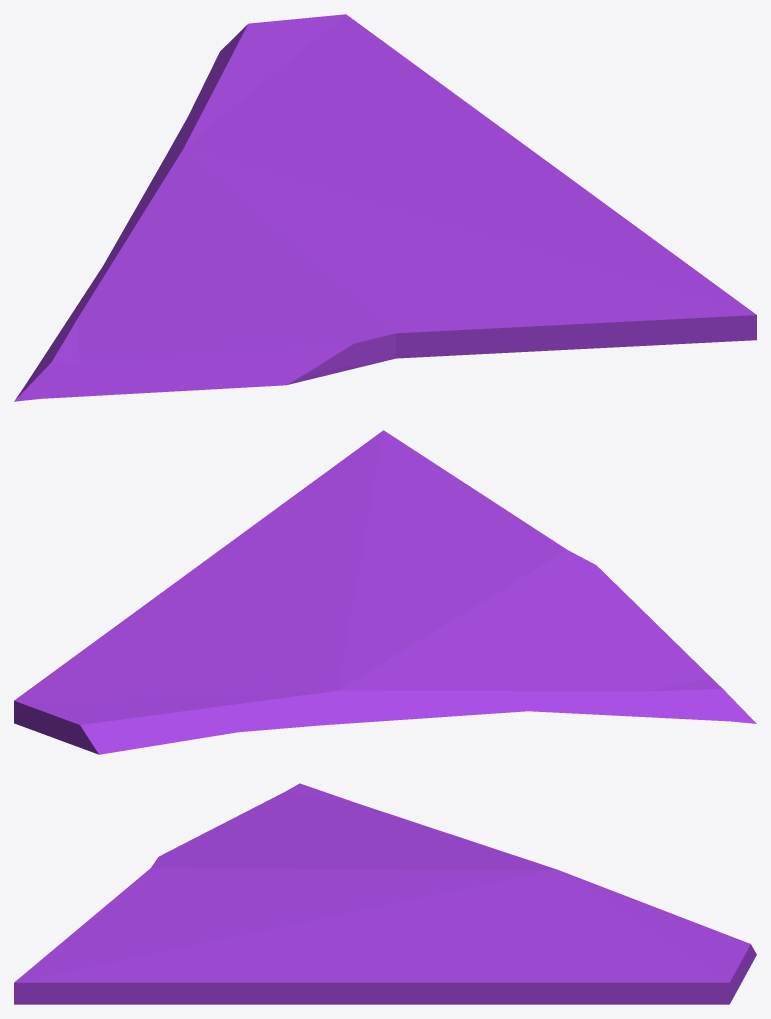
Rendered from Glass_101_2_3_chunks.fbx.
3 views of the same model, one above another, from view 1: azimuth 30°, elevation 25°; view 2: azimuth 150°, elevation 25°; view 3: azimuth 270°, elevation 25° (orthographic). The views are drawn at different scales.
Parts seen in each view (by area): view 1: Glass_101_2_3_3, Glass_101_2_3_19, Glass_101_2_3_18, Glass_101_2_3_7, Glass_101_2_3_23, Glass_101_2_3_4, Glass_101_2_3_16, Glass_101_2_3_0, Glass_101_2_3_9, Glass_101_2_3_26, Glass_101_2_3_11, Glass_101_2_3_25 (+16 smaller); view 2: Glass_101_2_3_4, Glass_101_2_3_19, Glass_101_2_3_18, Glass_101_2_3_3, Glass_101_2_3_7, Glass_101_2_3_16, Glass_101_2_3_12, Glass_101_2_3_0, Glass_101_2_3_20, Glass_101_2_3_26, Glass_101_2_3_9, Glass_101_2_3_11 (+14 smaller); view 3: Glass_101_2_3_18, Glass_101_2_3_19, Glass_101_2_3_29, Glass_101_2_3_7, Glass_101_2_3_30, Glass_101_2_3_16, Glass_101_2_3_32, Glass_101_2_3_28, Glass_101_2_3_26, Glass_101_2_3_20, Glass_101_2_3_3, Glass_101_2_3_4 (+13 smaller).
Part boxes in pixels (bbox=[...]): Glass_101_2_3_3: bbox=[14, 306, 256, 401]; Glass_101_2_3_19: bbox=[233, 99, 513, 175]; Glass_101_2_3_18: bbox=[363, 137, 608, 222]; Glass_101_2_3_7: bbox=[235, 142, 361, 261]; Glass_101_2_3_23: bbox=[406, 288, 690, 357]; Glass_101_2_3_4: bbox=[53, 171, 242, 342]; Glass_101_2_3_16: bbox=[353, 173, 481, 278]; Glass_101_2_3_0: bbox=[70, 217, 289, 324]; Glass_101_2_3_9: bbox=[226, 280, 356, 361]; Glass_101_2_3_26: bbox=[466, 249, 659, 317]; Glass_101_2_3_11: bbox=[283, 255, 502, 310]; Glass_101_2_3_25: bbox=[379, 311, 618, 354]; Glass_101_2_3_4: bbox=[365, 646, 657, 717]; Glass_101_2_3_19: bbox=[162, 590, 310, 688]; Glass_101_2_3_18: bbox=[165, 527, 339, 621]; Glass_101_2_3_3: bbox=[588, 606, 756, 723]; Glass_101_2_3_7: bbox=[304, 587, 465, 676]; Glass_101_2_3_16: bbox=[302, 550, 458, 623]; Glass_101_2_3_12: bbox=[89, 690, 284, 754]; Glass_101_2_3_0: bbox=[430, 618, 649, 702]; Glass_101_2_3_20: bbox=[51, 680, 258, 750]; Glass_101_2_3_26: bbox=[349, 463, 448, 543]; Glass_101_2_3_9: bbox=[517, 572, 638, 628]; Glass_101_2_3_11: bbox=[444, 529, 543, 612]; Glass_101_2_3_18: bbox=[272, 917, 450, 1004]; Glass_101_2_3_19: bbox=[436, 889, 594, 987]; Glass_101_2_3_29: bbox=[96, 950, 281, 1004]; Glass_101_2_3_7: bbox=[286, 864, 544, 912]; Glass_101_2_3_30: bbox=[441, 938, 610, 1004]; Glass_101_2_3_16: bbox=[217, 883, 435, 933]; Glass_101_2_3_32: bbox=[563, 963, 733, 1004]; Glass_101_2_3_28: bbox=[14, 953, 144, 1004]; Glass_101_2_3_26: bbox=[55, 907, 212, 964]; Glass_101_2_3_20: bbox=[590, 899, 754, 981]; Glass_101_2_3_3: bbox=[205, 783, 349, 836]; Glass_101_2_3_4: bbox=[384, 812, 514, 875].
Size of the model in its own units: 1074 by 121 by 1371.
